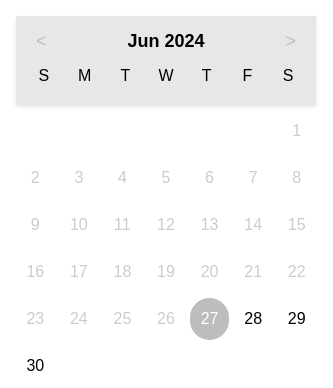
Test: Calendar Component › clicking next and previous buttons updates current month
Click the button ">" at (291, 42), box 276,26 -> 306,57
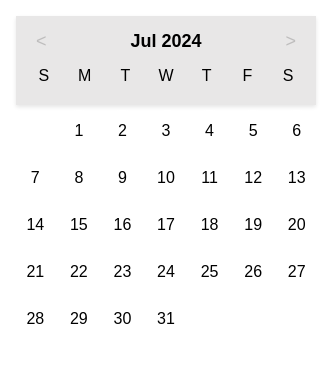
expect the heading "Jul 2024" is shown: met, box 130,31 -> 202,51
Click the button "<" at (41, 42), box 26,26 -> 56,57
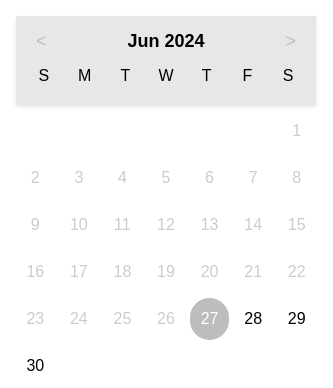
expect the heading "Jun 2024" is shown: met, box 128,31 -> 205,51
